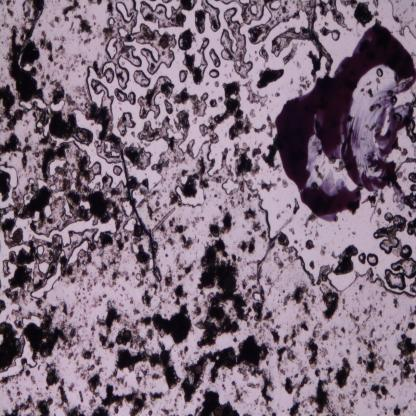Air bubble: (0, 227, 28, 332), (12, 215, 118, 241), (250, 0, 308, 46), (121, 26, 178, 72), (223, 7, 252, 78), (0, 334, 37, 381), (374, 213, 406, 254), (30, 262, 62, 301), (138, 0, 181, 28), (388, 0, 416, 40), (174, 178, 206, 209), (98, 59, 130, 88), (385, 258, 416, 287), (0, 166, 19, 210), (91, 79, 116, 110), (201, 0, 222, 33), (67, 236, 89, 266), (244, 81, 268, 106), (54, 191, 73, 220), (196, 38, 211, 74), (115, 0, 134, 23), (22, 177, 36, 207), (117, 113, 136, 135), (114, 88, 136, 105), (35, 117, 52, 137), (132, 69, 150, 87), (223, 178, 240, 196), (47, 159, 67, 174), (106, 36, 118, 59), (23, 258, 36, 279), (209, 48, 221, 68), (31, 97, 49, 110), (34, 175, 49, 190), (121, 200, 133, 218), (0, 209, 15, 223), (77, 197, 91, 212), (366, 252, 379, 268), (123, 218, 137, 232), (38, 260, 50, 274), (400, 244, 412, 258), (19, 99, 34, 110), (208, 68, 221, 79), (269, 0, 282, 11), (130, 242, 140, 256), (357, 251, 367, 265), (330, 30, 341, 42), (112, 164, 122, 177), (36, 244, 45, 258), (178, 68, 186, 83), (118, 27, 128, 39), (180, 174, 188, 187), (252, 291, 261, 302), (194, 364, 203, 375), (250, 3, 258, 15), (44, 206, 52, 218), (23, 63, 33, 72), (147, 258, 154, 270), (376, 68, 384, 77), (70, 182, 77, 192), (108, 16, 115, 26)
Background material: (195, 239, 253, 348), (135, 115, 207, 177), (201, 334, 271, 388), (8, 27, 44, 99), (20, 312, 70, 356), (152, 302, 193, 346), (222, 81, 253, 137), (138, 75, 176, 120), (100, 383, 148, 414), (356, 330, 388, 376), (389, 334, 416, 387), (250, 366, 277, 416), (51, 113, 90, 144), (311, 363, 334, 414), (193, 390, 240, 414), (233, 142, 262, 180), (271, 326, 299, 364), (114, 349, 162, 371), (174, 89, 209, 119), (331, 243, 360, 277), (89, 192, 119, 224), (32, 144, 63, 174), (290, 374, 312, 416), (87, 105, 112, 139), (97, 303, 122, 336), (137, 188, 162, 220), (149, 209, 176, 238), (0, 83, 16, 130), (124, 319, 145, 350), (200, 116, 226, 141), (210, 210, 233, 238), (6, 269, 26, 301), (320, 286, 340, 318), (182, 54, 203, 84), (335, 356, 353, 391), (352, 304, 374, 332), (57, 56, 86, 77), (256, 68, 286, 88), (282, 286, 309, 308), (2, 395, 33, 414), (181, 374, 202, 402), (217, 195, 252, 211), (403, 169, 416, 210), (176, 29, 195, 57), (361, 382, 389, 401), (0, 132, 23, 155), (336, 388, 358, 412), (74, 14, 94, 38), (276, 234, 296, 258), (176, 252, 193, 280), (306, 338, 320, 371), (161, 366, 180, 390), (40, 30, 54, 62), (262, 142, 278, 170), (282, 41, 298, 68), (168, 216, 190, 235), (77, 268, 95, 291), (230, 381, 247, 405), (112, 248, 122, 288), (62, 0, 80, 22), (76, 152, 90, 180), (150, 268, 163, 298), (57, 376, 69, 408), (245, 208, 260, 233), (35, 396, 53, 416), (312, 321, 330, 340), (88, 375, 102, 399), (70, 324, 84, 348), (173, 285, 188, 307), (97, 332, 115, 350), (61, 256, 74, 280), (22, 142, 33, 170), (239, 237, 257, 254), (80, 342, 96, 361), (258, 177, 277, 193), (53, 80, 65, 105), (76, 363, 96, 378), (404, 118, 416, 142), (253, 302, 265, 325), (258, 44, 270, 66), (62, 404, 86, 415), (90, 294, 106, 310), (110, 369, 126, 385), (331, 325, 347, 340), (180, 235, 194, 252), (298, 76, 311, 94), (136, 367, 149, 385), (266, 115, 276, 138), (54, 45, 68, 61), (405, 216, 416, 236), (304, 210, 316, 228), (164, 269, 174, 290), (141, 290, 152, 309), (49, 99, 66, 111), (284, 376, 295, 394), (98, 262, 109, 280), (43, 360, 57, 374), (209, 172, 223, 186), (134, 271, 148, 285), (180, 362, 194, 376), (139, 314, 152, 328), (22, 0, 32, 18), (182, 1, 198, 12), (149, 391, 165, 402), (90, 407, 113, 414), (102, 27, 115, 39), (273, 254, 284, 268), (65, 91, 75, 106), (49, 14, 60, 27), (165, 236, 176, 249), (406, 318, 416, 332), (106, 1, 116, 15), (299, 318, 309, 332), (304, 302, 314, 316), (170, 190, 178, 207), (260, 228, 268, 243), (392, 296, 400, 311), (0, 298, 7, 315), (393, 403, 402, 416), (394, 321, 403, 334), (358, 280, 366, 294), (255, 124, 266, 134), (375, 307, 385, 318), (5, 6, 15, 17), (210, 97, 219, 109), (266, 310, 275, 321), (146, 327, 153, 341), (81, 37, 93, 45), (342, 300, 350, 312), (87, 1, 103, 7), (92, 60, 100, 72), (62, 302, 68, 318), (95, 355, 103, 367), (178, 349, 188, 358), (319, 244, 326, 256), (68, 382, 76, 392), (152, 373, 162, 381), (78, 390, 84, 403), (310, 259, 316, 271), (282, 178, 289, 188), (160, 408, 170, 414), (25, 368, 31, 378), (69, 276, 76, 284), (1, 23, 10, 29), (5, 0, 11, 6), (132, 310, 141, 314), (215, 81, 220, 87)
Cellulose filter fibre: (254, 199, 300, 309), (308, 0, 332, 75), (18, 7, 47, 58), (277, 27, 312, 43)
Cotton: (119, 150, 156, 271)
Diatom: (161, 348, 173, 366), (13, 230, 23, 244), (13, 108, 23, 121), (160, 36, 170, 49), (47, 374, 55, 386), (124, 330, 132, 341), (305, 240, 314, 249), (89, 243, 96, 251)
Pen: (276, 26, 416, 223)
